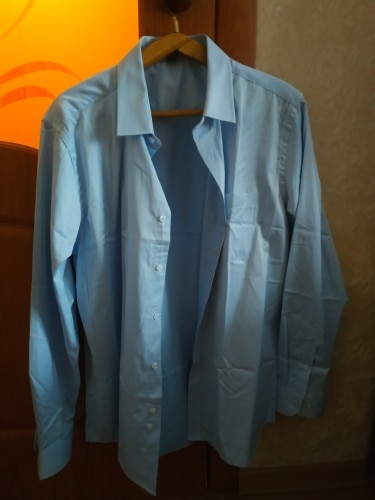shirts: (28, 25, 340, 498)
